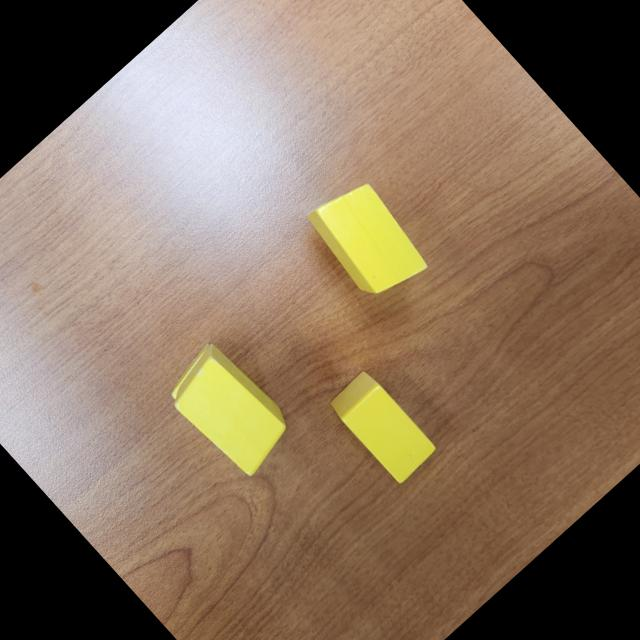yellow: (159, 336, 302, 484), (297, 168, 436, 310), (326, 367, 439, 484), (158, 340, 222, 402)
